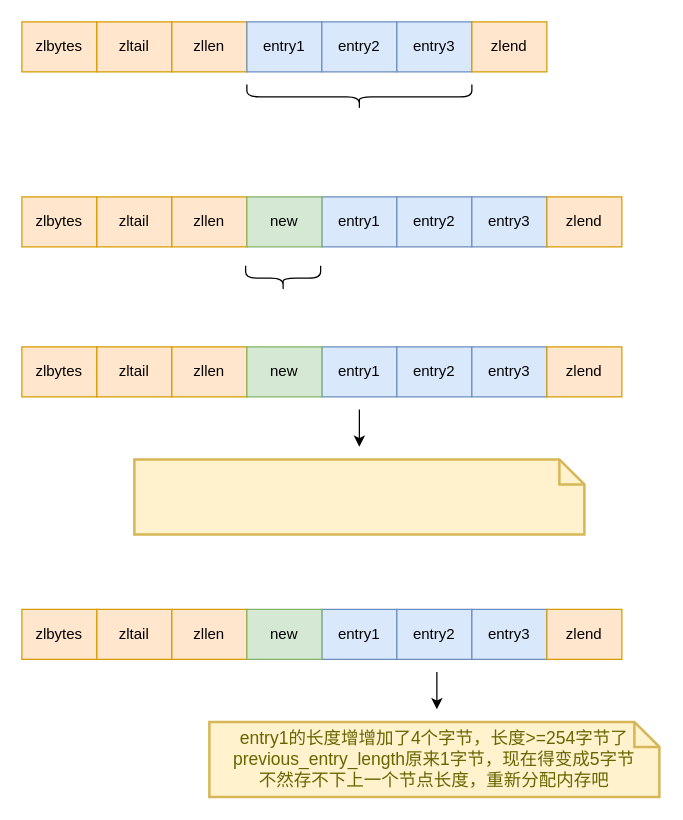
The diagram is 683 pixels wide and 820 high, and some of its shapes have lost their labels. The shapes that lost their labels are listed below. From the top down, each one's centre as x and y in pixels, then its label:
point 359,96: entry1-entry3每个长度都是介于250-253字节
point 282,277: 长度大于254字节
point 358,496: previous_entry_length原来1字节，现在得变成5字节 不然存不下上一个节点长度，重新分配内存吧
